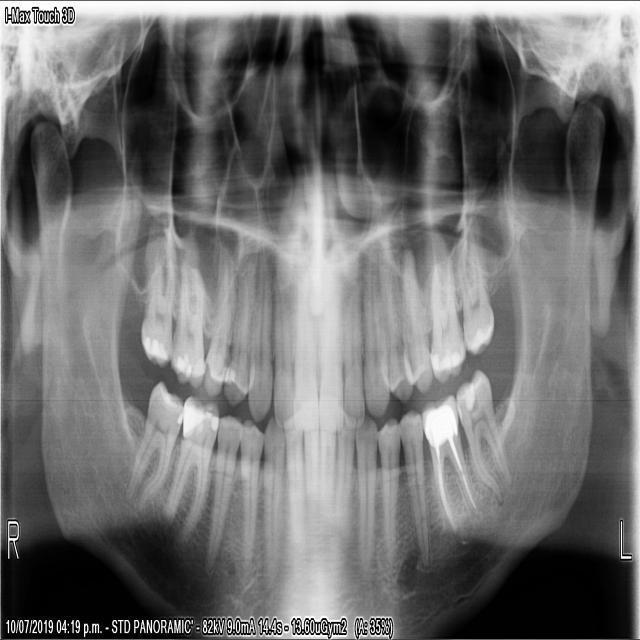LCD: (353, 418, 376, 564)
LCU: (362, 270, 389, 416)
LID: (334, 401, 356, 539), (319, 397, 336, 529)
LIU: (319, 289, 343, 432), (343, 280, 363, 429)
LMD: (416, 387, 479, 539), (455, 363, 512, 507)
LMU: (451, 237, 495, 359), (428, 256, 465, 385)
LPMD: (397, 404, 430, 562), (375, 417, 400, 564)
LPMU: (398, 257, 432, 393), (383, 264, 413, 402)
RCD: (262, 405, 283, 596)
RCU: (245, 267, 272, 422)
RID: (296, 394, 320, 532), (282, 408, 305, 547)
RIU: (292, 288, 317, 432), (271, 270, 293, 427)
RMD: (124, 369, 182, 527), (165, 388, 222, 531)
RMU: (169, 257, 205, 390), (138, 237, 174, 367)
RPMD: (204, 412, 241, 571), (238, 421, 264, 574)
RPMU: (202, 265, 236, 394), (223, 275, 255, 404)
